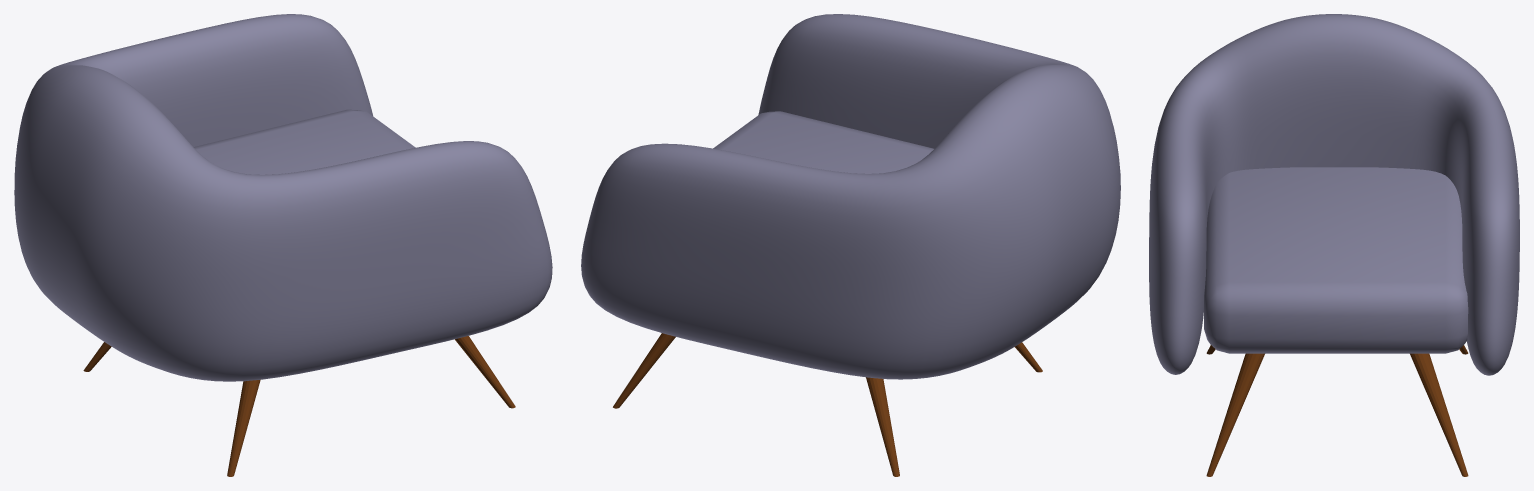
Rendered from Cadeira.fbx.
3 views of the same model, side by side, from view 1: azimuth 30°, elevation 25°; view 2: azimuth 150°, elevation 25°; view 3: azimuth 270°, elevation 25° (orthographic). The views are drawn at different scales.
Visible parts, largest first — view 1: Cylinder; view 2: Cylinder; view 3: Cylinder.
Boxes of the visible parts, x1=… form: Cylinder: x1=14, y1=14, x2=552, y2=476; Cylinder: x1=581, y1=14, x2=1120, y2=476; Cylinder: x1=1149, y1=14, x2=1519, y2=476.
Bounding box in the file's own units: 318 × 260 × 278.
